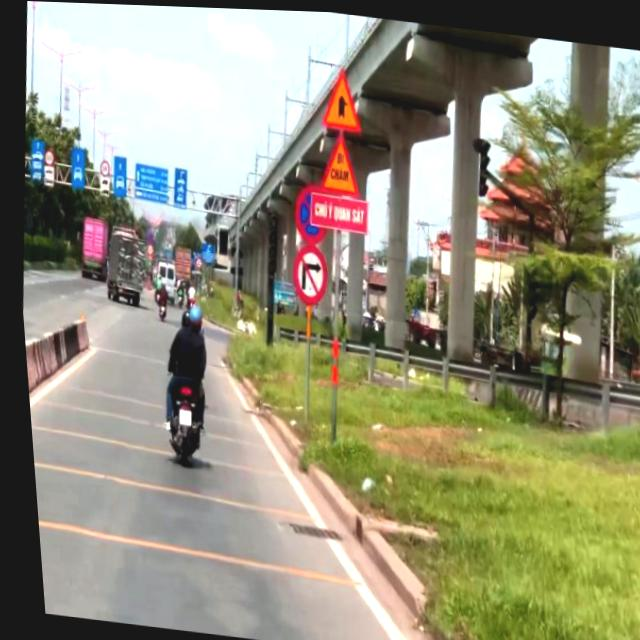Cam re phai: (284, 246, 329, 305)
Di cham: (310, 126, 362, 198)
Giao nhau voi duong khong uu tien ben phai: (314, 60, 366, 132)
